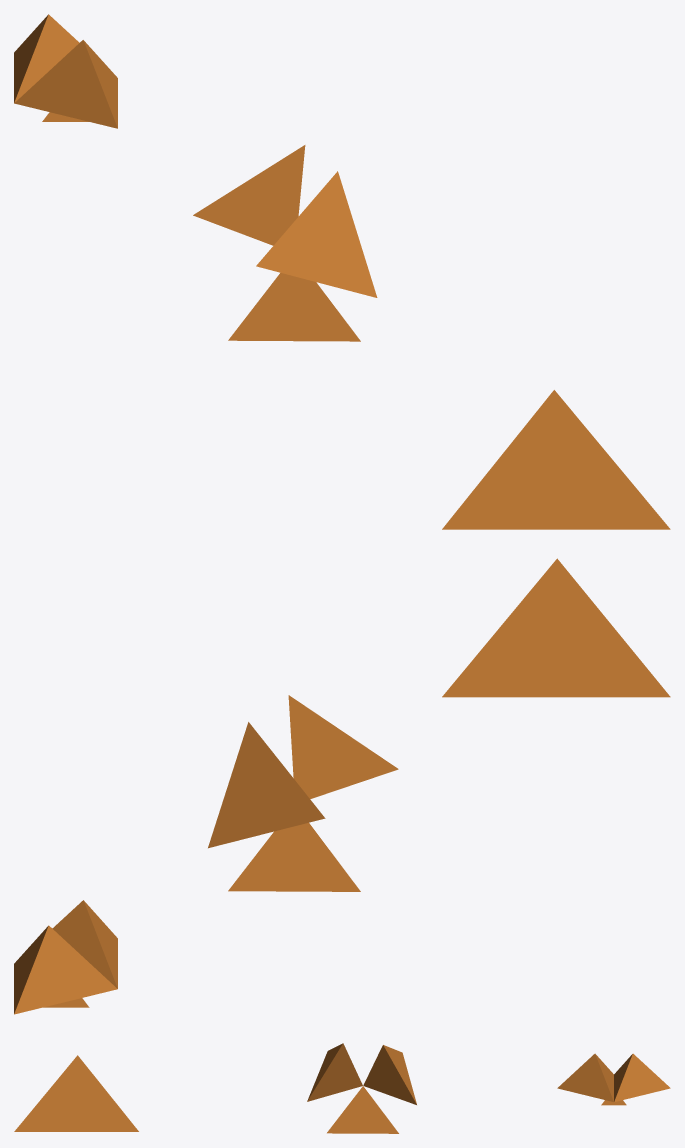
File: Shrine_baked.fbx
3 renders of one model, top to bottom at view 1: azimuth 30°, elevation 25°; view 2: azimuth 150°, elevation 25°; view 3: azimuth 270°, elevation 25°, orthographic. The views are drawn at different scales.
Visible parts, largest first — view 1: Triquetra, Pyramid, Heraldic; view 2: Triquetra, Pyramid, Heraldic; view 3: Triquetra, Pyramid, Heraldic.
Boxes of the visible parts, left/top/right/bottom form: Triquetra: left=193, top=145, right=377, bottom=341; Pyramid: left=442, top=390, right=670, bottom=529; Heraldic: left=14, top=14, right=117, bottom=128; Triquetra: left=208, top=695, right=398, bottom=891; Pyramid: left=442, top=558, right=670, bottom=697; Heraldic: left=14, top=900, right=117, bottom=1014; Triquetra: left=307, top=1043, right=416, bottom=1133; Pyramid: left=14, top=1055, right=138, bottom=1131; Heraldic: left=557, top=1053, right=670, bottom=1105.
Bounding box in the file's own units: 247 × 221 × 1489.
